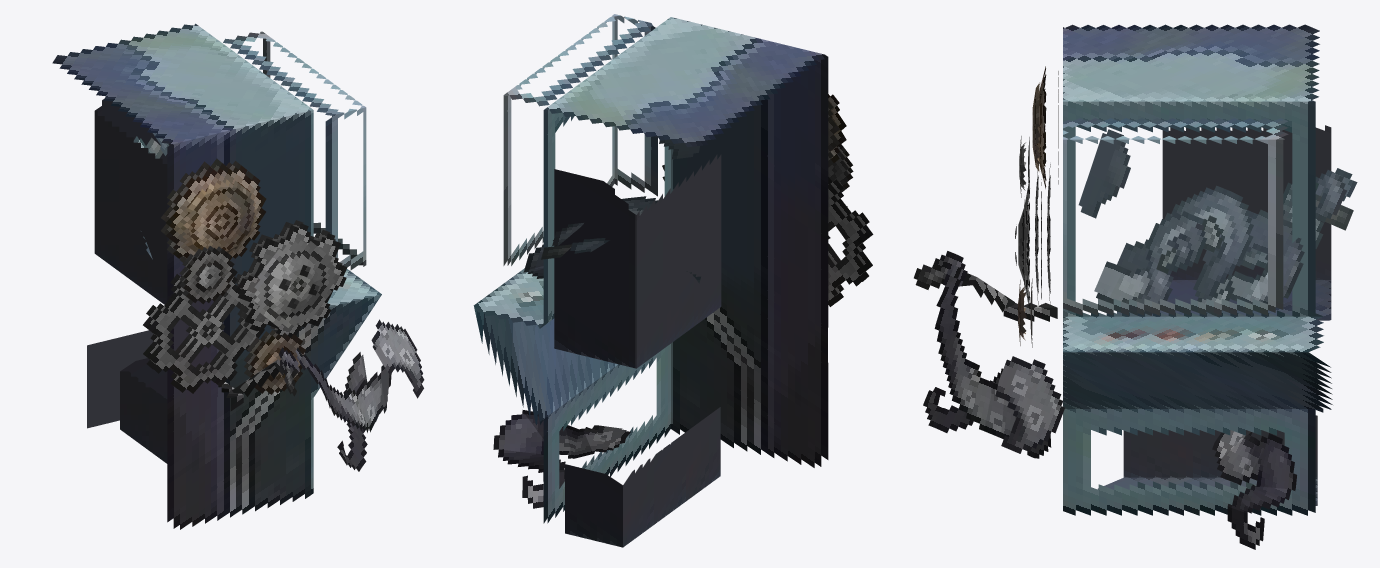
3 renders of one model, left to right at view 1: azimuth 30°, elevation 25°; view 2: azimuth 150°, elevation 25°; view 3: azimuth 270°, elevation 25°, orthographic. The views are drawn at different scales.
Visible parts, largest first — view 1: handle, handle.001; view 2: handle, handle.001; view 3: handle, handle.001.
Part boxes in pixels (x1,y1,x2,y2): handle: (52, 23, 381, 529); handle.001: (133, 133, 424, 471); handle: (473, 14, 828, 547); handle.001: (493, 94, 873, 508); handle: (1003, 24, 1332, 515); handle.001: (914, 66, 1357, 549).
Bounding box in the file's own units: 0.8357 × 1.13 × 1.08.
1 material, 1 textured.
